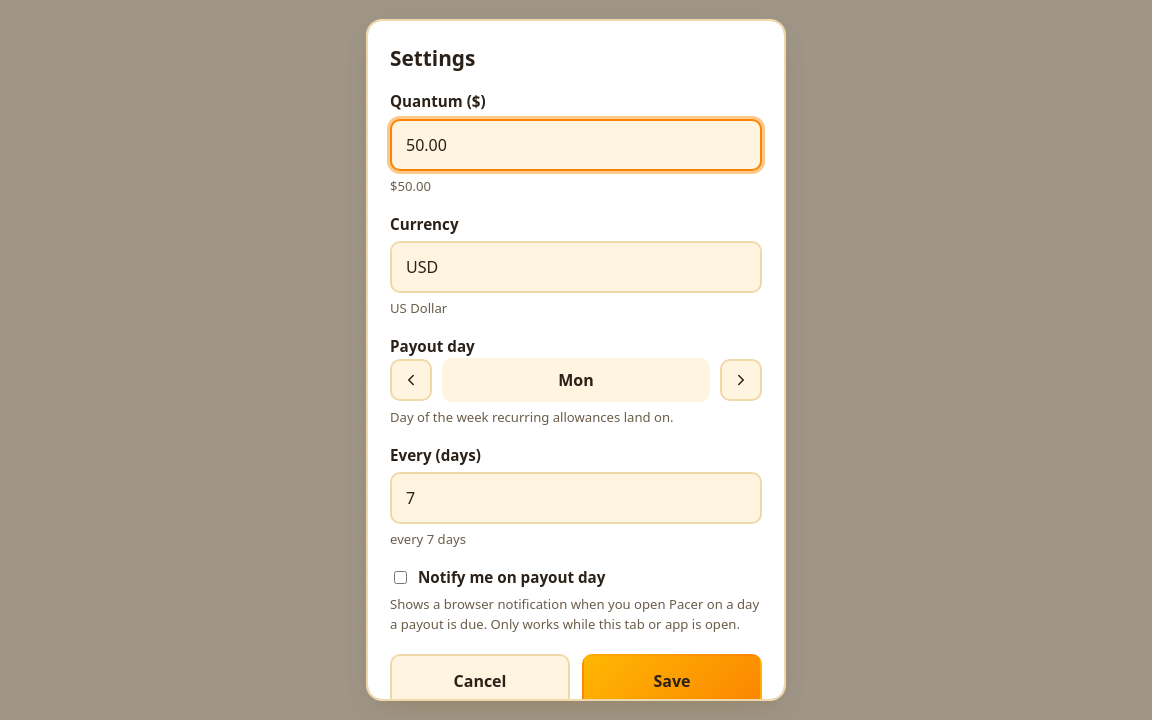
Test: SettingsDialog › shows a live preview once the quantum is valid
Replace the text in the field labelled "Quantum ($)" with "100" at (576, 145), box [390,119,762,171]
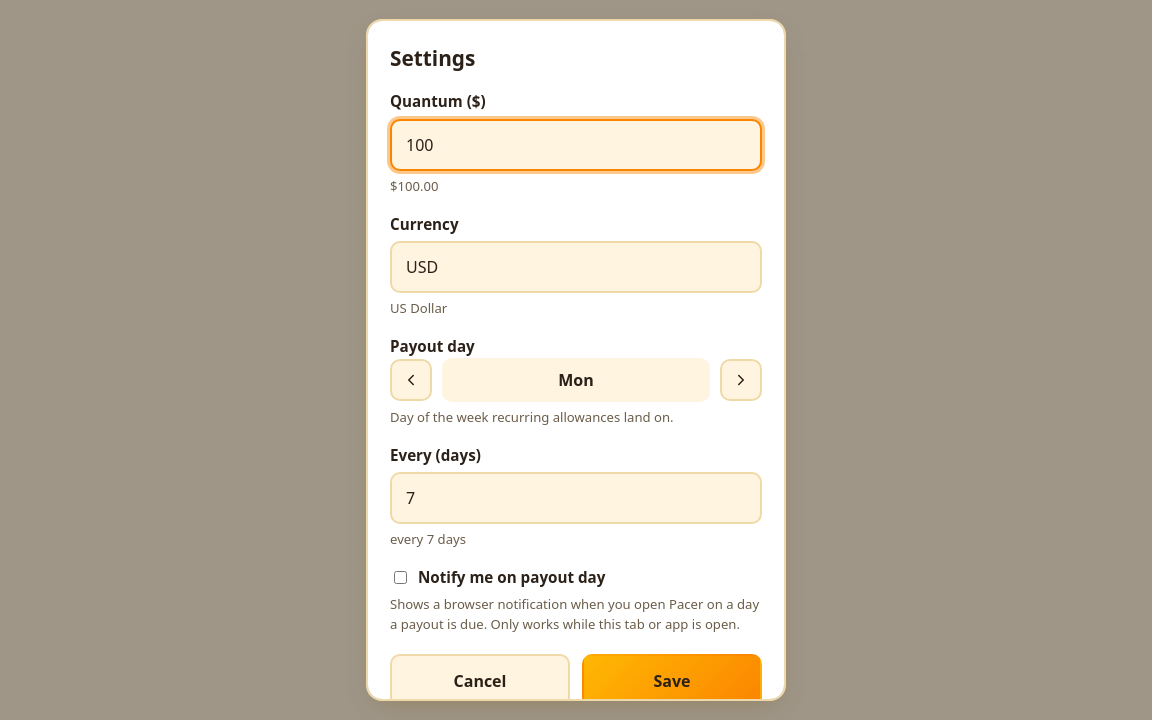
Now the text "$100.00" is shown, box [390,177,438,195]
